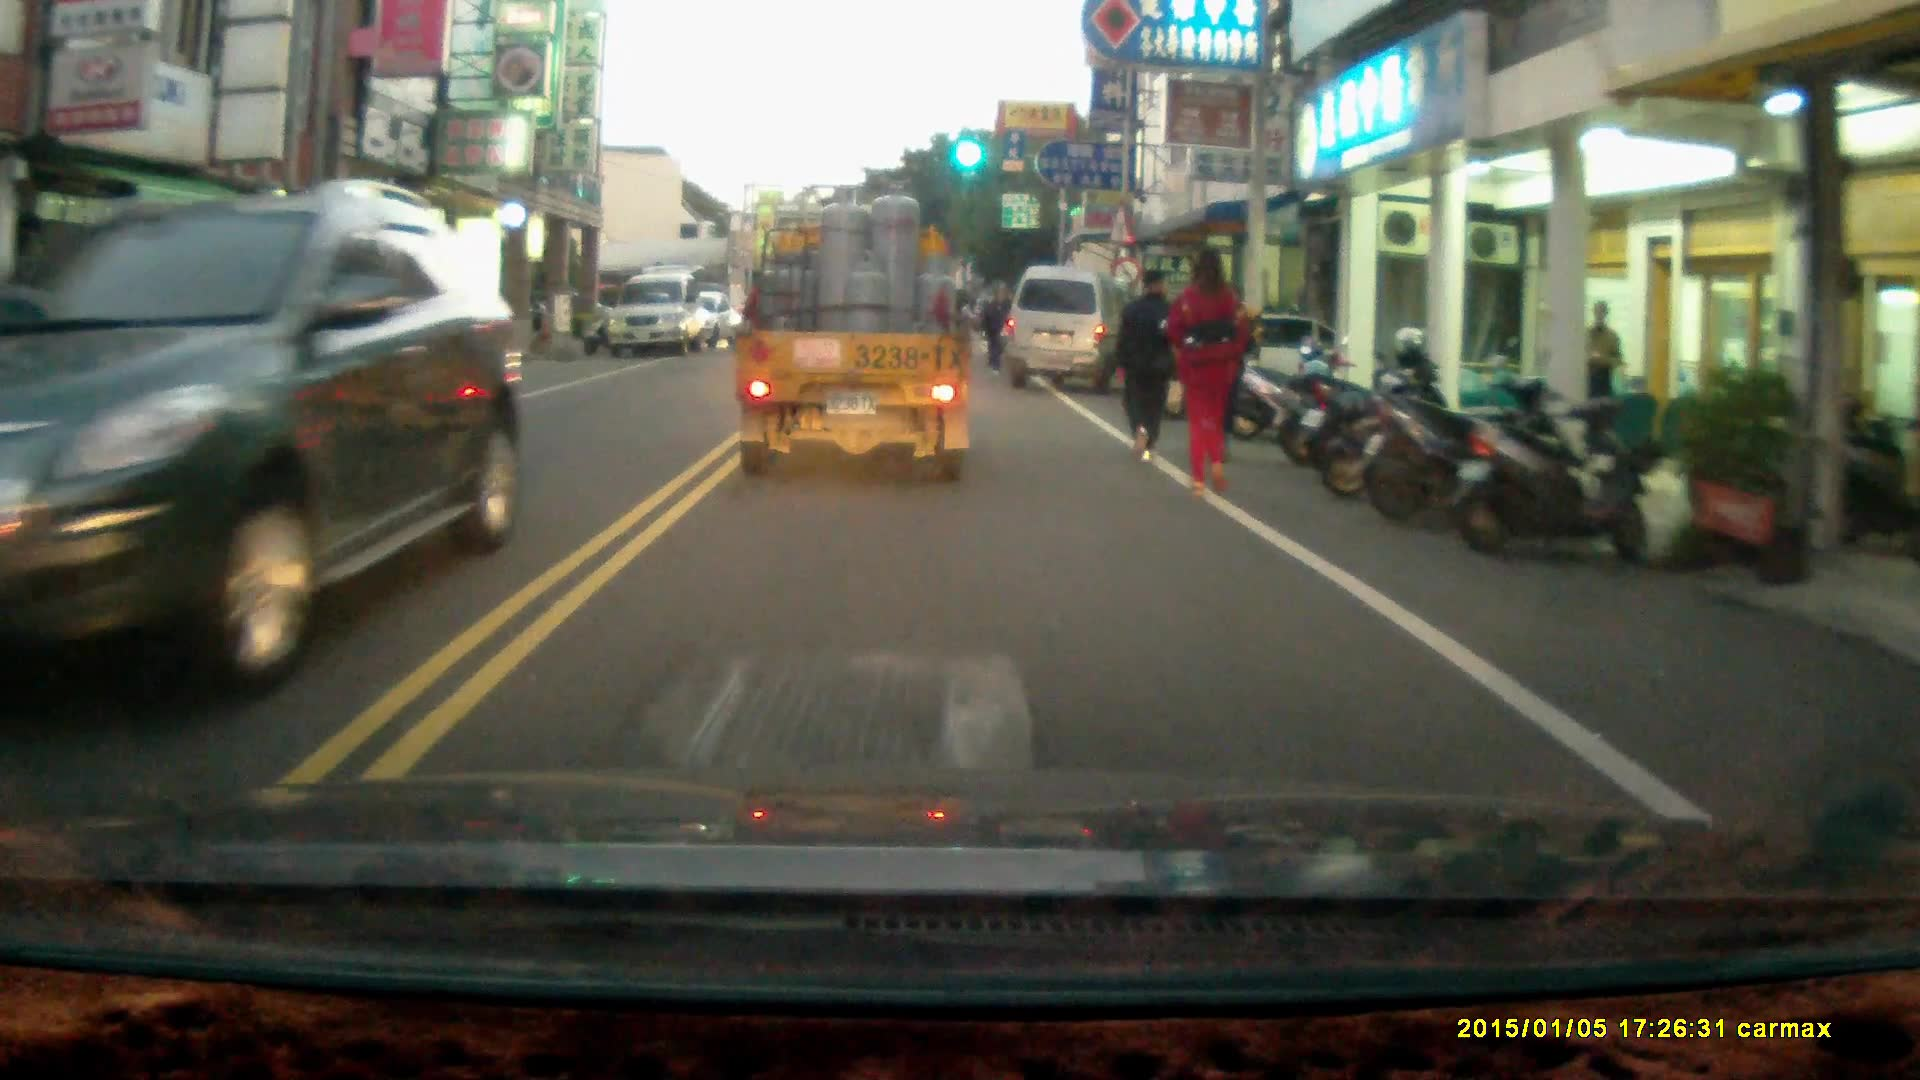pedestrian: (1169, 244, 1251, 504), (1110, 265, 1186, 465), (1581, 296, 1626, 446), (981, 287, 1014, 371)
vehicle: (1, 175, 546, 689), (731, 184, 983, 493), (197, 290, 466, 405), (1010, 266, 1140, 397), (606, 275, 715, 360)
